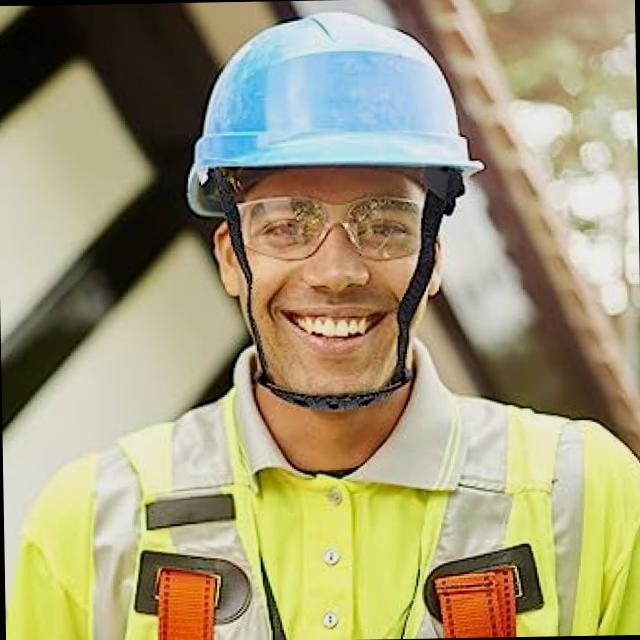goggles: (224, 196, 452, 264)
helmet: (172, 10, 479, 192)
vest: (1, 387, 640, 640)
